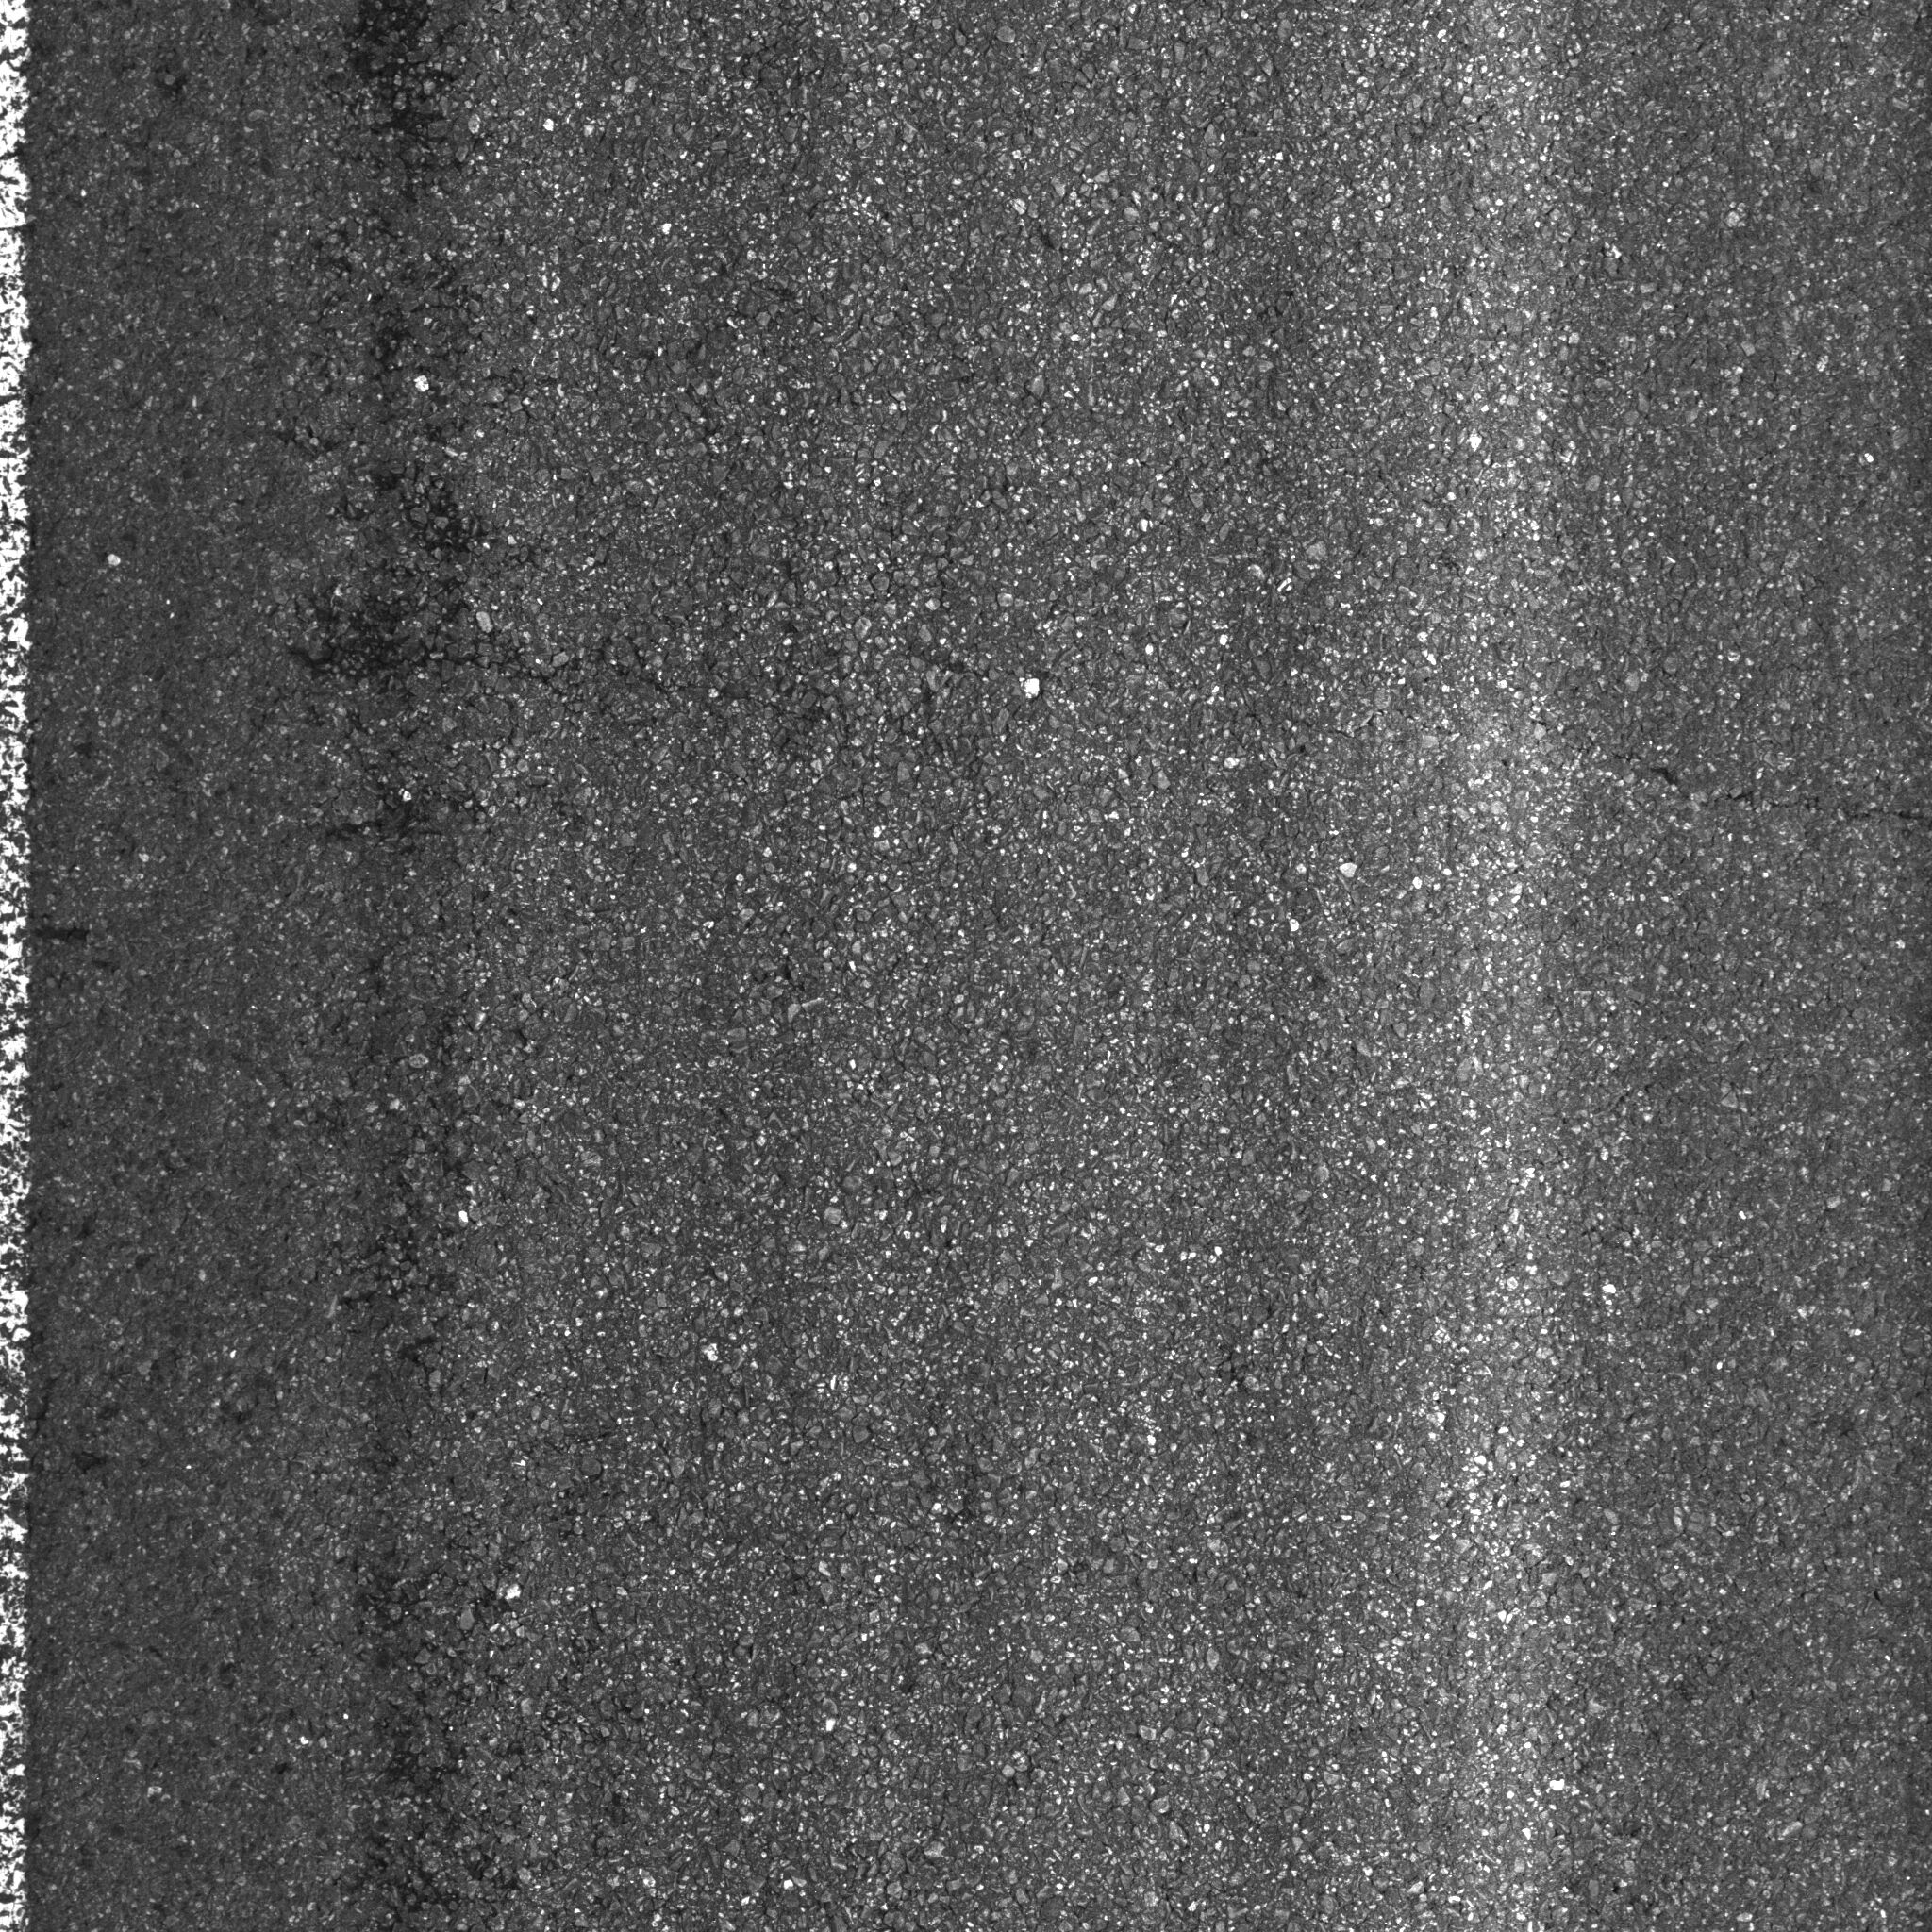transeverse: (333, 600, 973, 757), (1578, 694, 1932, 858)
